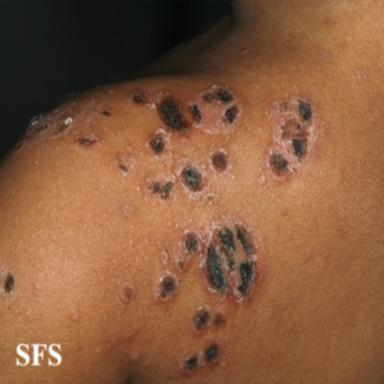Impetigo: (114, 82, 247, 209), (150, 210, 266, 315), (257, 90, 326, 189), (12, 101, 113, 157), (179, 334, 231, 378), (189, 303, 227, 337), (0, 263, 18, 297), (119, 280, 138, 305)
